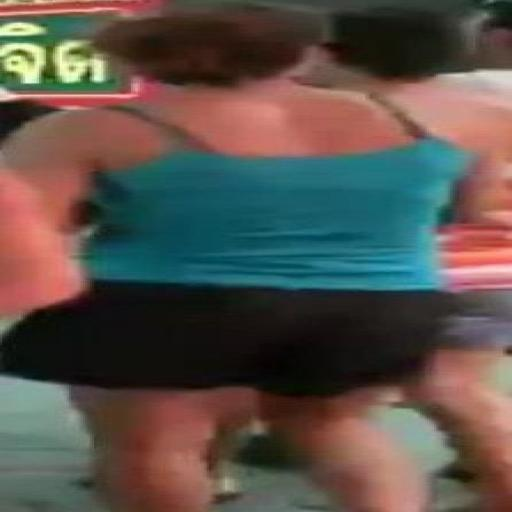person: (3, 8, 507, 511), (411, 218, 511, 511), (0, 162, 84, 318)
